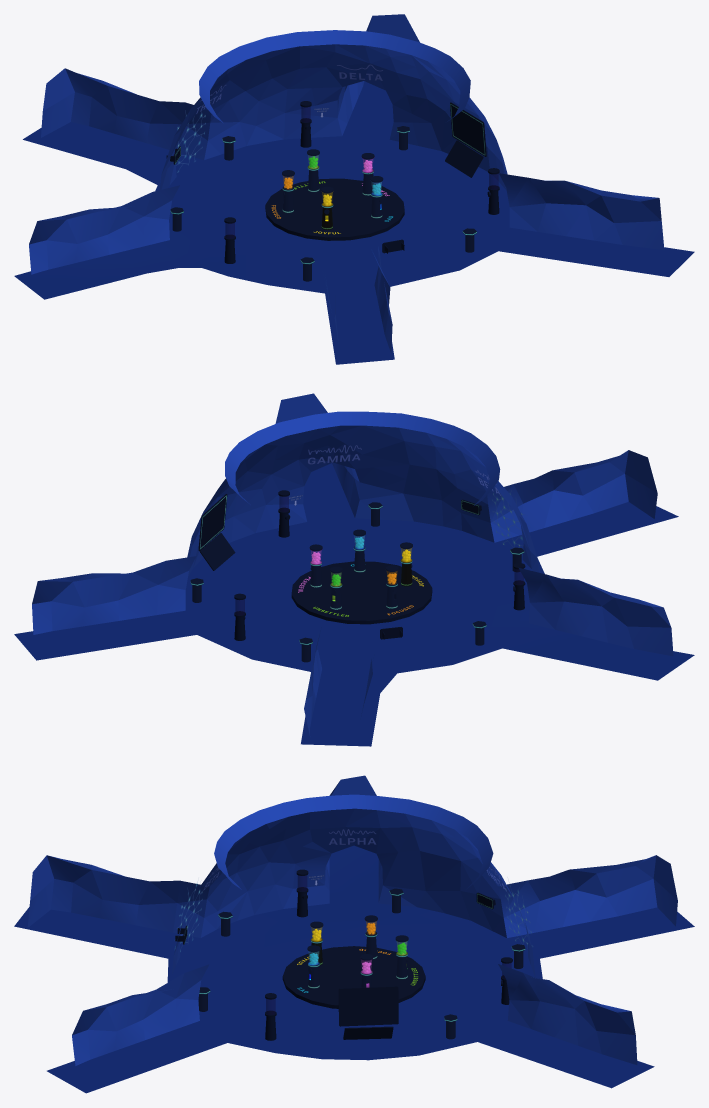
Rendered from room.glb.
3 views of the same model, one above another, from view 1: azimuth 30°, elevation 25°; view 2: azimuth 150°, elevation 25°; view 3: azimuth 270°, elevation 25° (orthographic).
Parts seen in each view (by area): view 1: central_pedestal room1, room1 mainRoom, room alpha pCylinder31, room pCube12 new_props1, room pCylinder43 visualizer visualizer_transform5 alpha, room visualizer visualizer_transform5 alpha pCylinder44, room pCylinder8; view 2: central_pedestal room1, room1 mainRoom, room alpha pCylinder31, room pCube12 new_props1, room pCylinder43 visualizer visualizer_transform5 alpha, room visualizer visualizer_transform5 alpha pCylinder44, room pCylinder8; view 3: room1 mainRoom, central_pedestal room1, room pCube12 new_props1, room alpha pCylinder31, room pCylinder43 visualizer visualizer_transform5 alpha, room visualizer visualizer_transform5 alpha pCylinder44, room pCylinder8.
Boxes of the visible parts, <box> form: central_pedestal room1: <box>14,81,694,364</box>; room1 mainRoom: <box>29,14,664,353</box>; room alpha pCylinder31: <box>170,126,476,281</box>; room pCube12 new_props1: <box>166,102,486,253</box>; room pCylinder43 visualizer visualizer_transform5 alpha: <box>224,101,499,263</box>; room visualizer visualizer_transform5 alpha pCylinder44: <box>196,64,498,238</box>; room pCylinder8: <box>283,155,381,205</box>; central_pedestal room1: <box>14,463,694,746</box>; room1 mainRoom: <box>32,393,673,736</box>; room alpha pCylinder31: <box>190,502,524,662</box>; room pCube12 new_props1: <box>198,494,481,639</box>; room pCylinder43 visualizer visualizer_transform5 alpha: <box>234,490,525,640</box>; room visualizer visualizer_transform5 alpha pCylinder44: <box>235,445,523,615</box>; room pCylinder8: <box>311,535,411,585</box>; room1 mainRoom: <box>27,775,677,1065</box>; central_pedestal room1: <box>14,845,694,1093</box>; room pCube12 new_props1: <box>175,892,495,1039</box>; room alpha pCylinder31: <box>198,888,525,1039</box>; room pCylinder43 visualizer visualizer_transform5 alpha: <box>265,869,512,1040</box>; room visualizer visualizer_transform5 alpha pCylinder44: <box>203,829,511,1014</box>; room pCylinder8: <box>309,921,407,973</box>.
Size of the model in its own units: 27.02 by 6.02 by 29.01.
10 materials, 8 textured.
